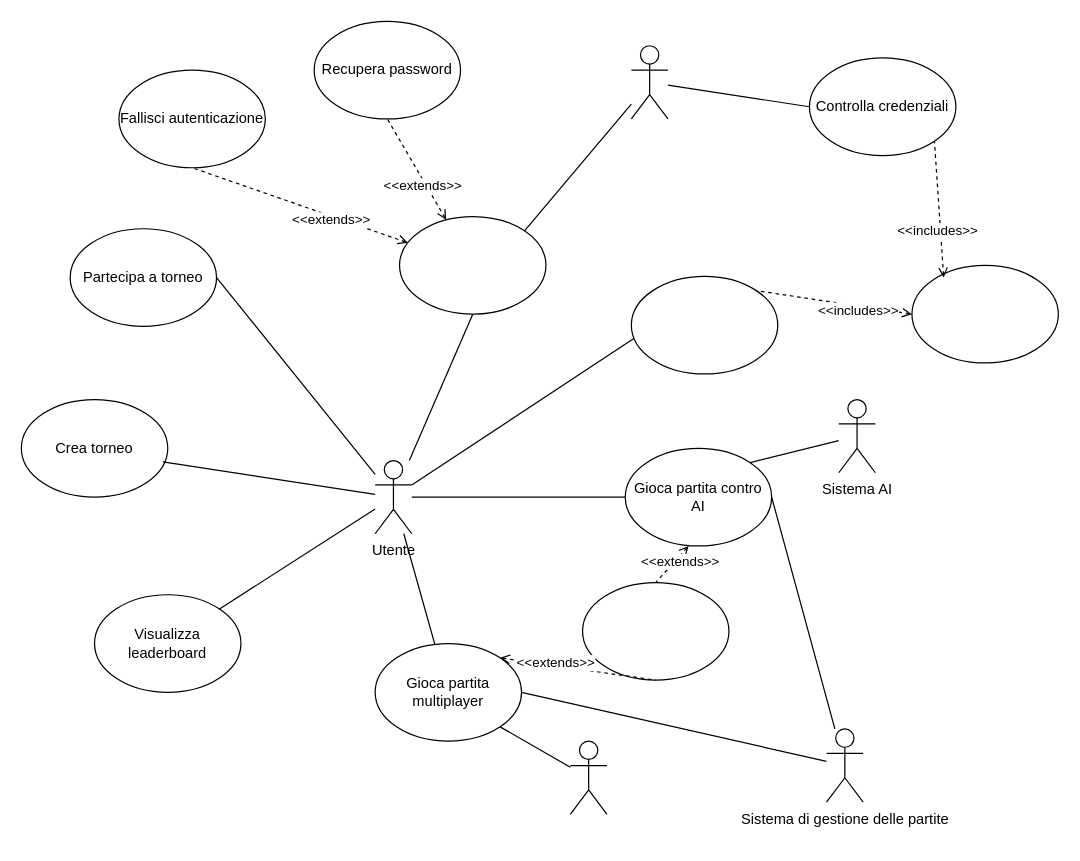
Image size: 1080x861. Some labels were removed from this diagram. Each missing label, with the centre of its shape:
Altro utente: pixel 588 777
Condividi punteggio su social network: pixel 704 324
Esegui l'autenticazione: pixel 472 264
Interfacciati con social network: pixel 984 313
Riprendi partita: pixel 655 630
Sistema di autenticazione: pixel 649 82
